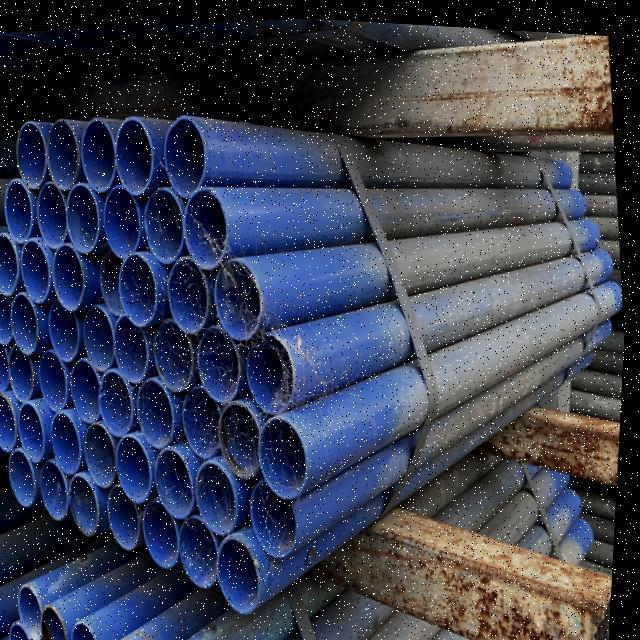pipe: (243, 325, 295, 411), (262, 411, 312, 494), (253, 471, 302, 553), (216, 250, 264, 333), (199, 321, 248, 402), (151, 310, 200, 391), (145, 480, 188, 568), (183, 182, 229, 262), (165, 112, 208, 197), (136, 375, 187, 446), (219, 396, 264, 476), (182, 506, 227, 586), (197, 456, 244, 532), (187, 370, 227, 459), (104, 179, 148, 258), (221, 532, 266, 609), (141, 182, 185, 259), (116, 112, 156, 196), (169, 252, 212, 329), (110, 470, 150, 551), (120, 248, 163, 323), (80, 115, 118, 199), (160, 441, 200, 518), (118, 308, 159, 381), (117, 427, 158, 500), (50, 282, 85, 363), (103, 363, 142, 435), (36, 452, 75, 521), (67, 172, 101, 251), (83, 299, 119, 372), (85, 414, 121, 487), (38, 169, 68, 255), (73, 467, 110, 534), (40, 343, 77, 408), (52, 238, 87, 306), (74, 348, 104, 427), (12, 281, 44, 354), (17, 123, 50, 193), (42, 122, 77, 188), (53, 408, 88, 473), (22, 398, 53, 463), (7, 338, 39, 400), (7, 174, 37, 239), (22, 236, 53, 297), (10, 444, 41, 505), (104, 242, 127, 317), (22, 582, 47, 640), (0, 227, 21, 290), (0, 387, 21, 450), (46, 603, 75, 640), (0, 280, 17, 338), (0, 337, 11, 385), (78, 623, 101, 640), (16, 625, 35, 640)
